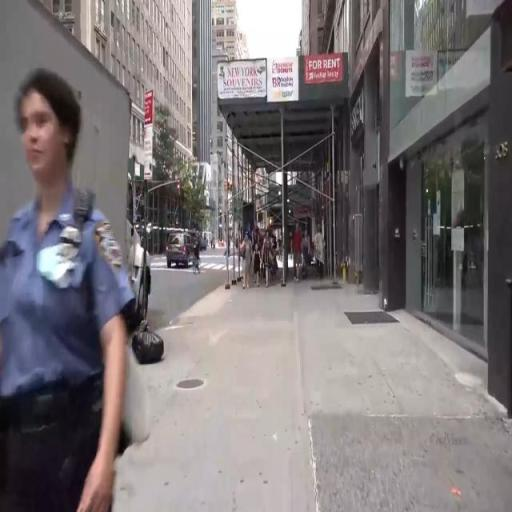person: (8, 61, 120, 512), (240, 231, 256, 298), (262, 231, 278, 297), (292, 220, 304, 291), (315, 229, 329, 280), (303, 231, 312, 277), (194, 238, 203, 275), (255, 243, 262, 285), (253, 220, 263, 243)
